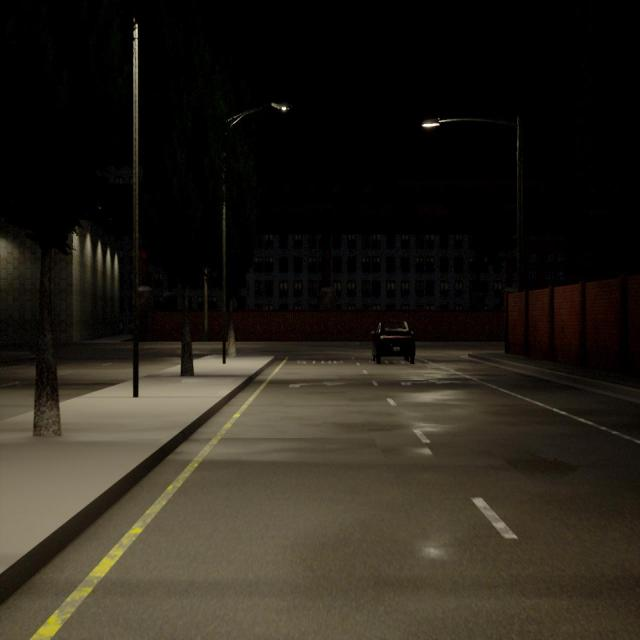Vehicle: (371, 321, 415, 363)
